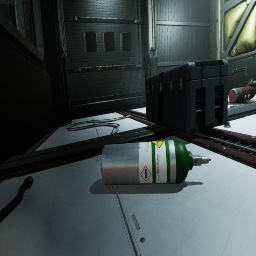0: (101, 140, 211, 185)
NitrogenTank ,: (228, 86, 256, 103)
